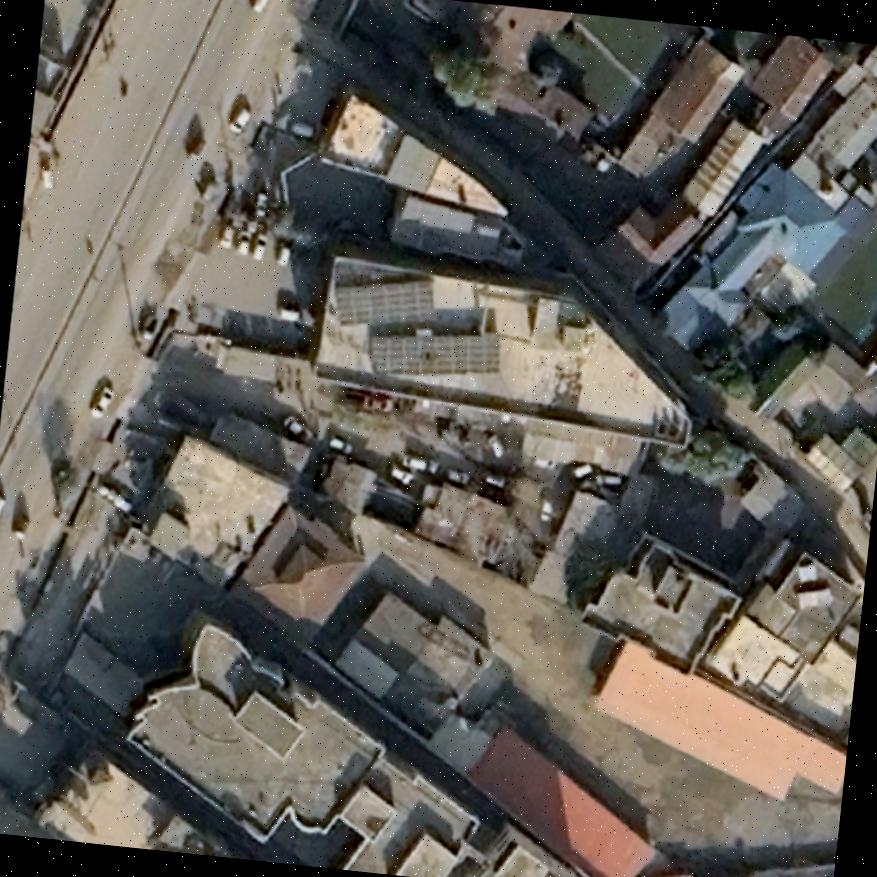Solarpanel: (362, 316, 506, 388), (328, 267, 439, 336)
